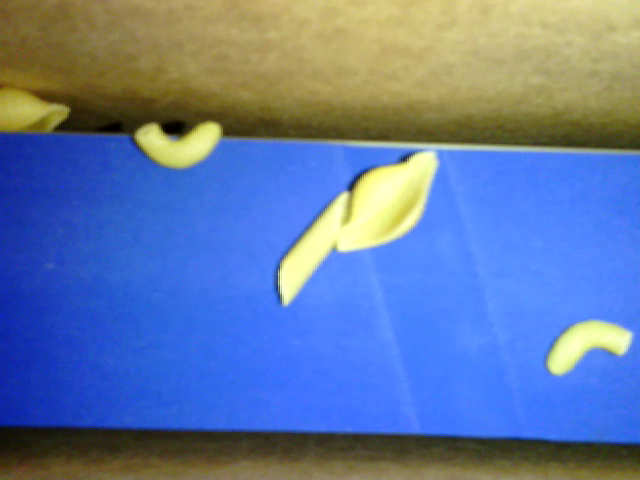elbow: (541, 316, 636, 379), (131, 115, 224, 169)
penne: (273, 188, 349, 309)
shell: (339, 147, 438, 255), (1, 83, 72, 134)
